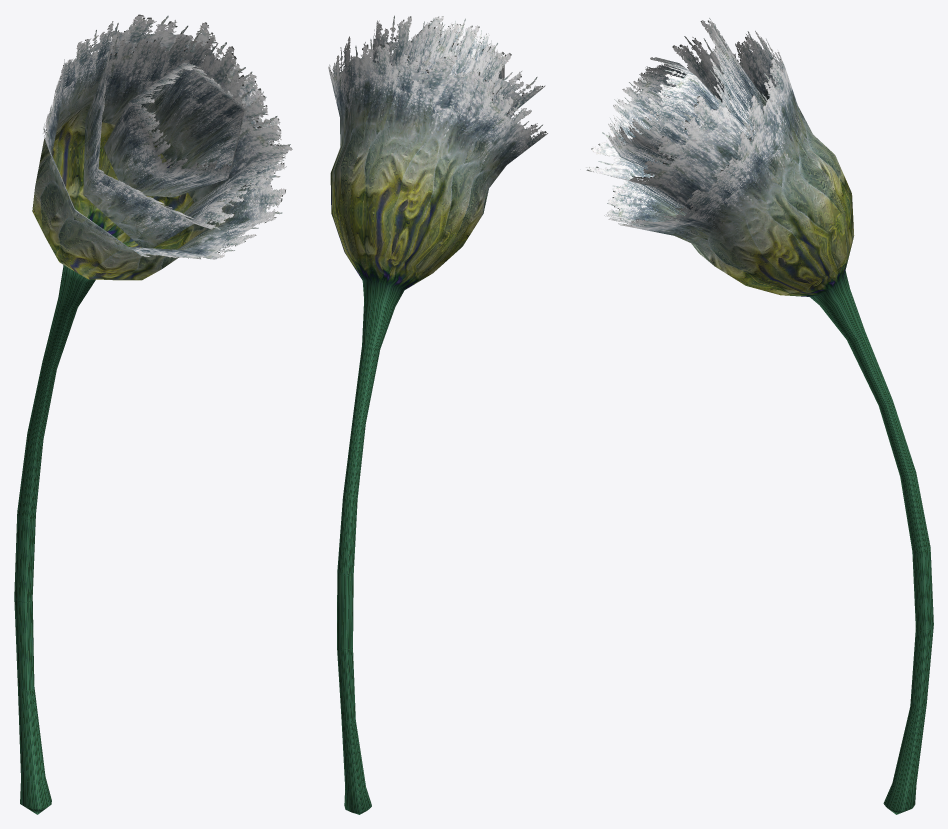
The model's file is w12plt01.obj.
3 renders of one model, left to right at view 1: azimuth 30°, elevation 25°; view 2: azimuth 150°, elevation 25°; view 3: azimuth 270°, elevation 25°, orthographic. The views are drawn at different scales.
Visible parts, largest first — view 1: plt01_plt01Shape; view 2: plt01_plt01Shape; view 3: plt01_plt01Shape.
Boxes of the visible parts, x1=… form: plt01_plt01Shape: x1=14, y1=14, x2=292, y2=814; plt01_plt01Shape: x1=328, y1=15, x2=547, y2=814; plt01_plt01Shape: x1=585, y1=18, x2=933, y2=814.
Bounding box in the file's own units: 0.4809 × 1.74 × 0.7114.
1 material, 1 textured.
